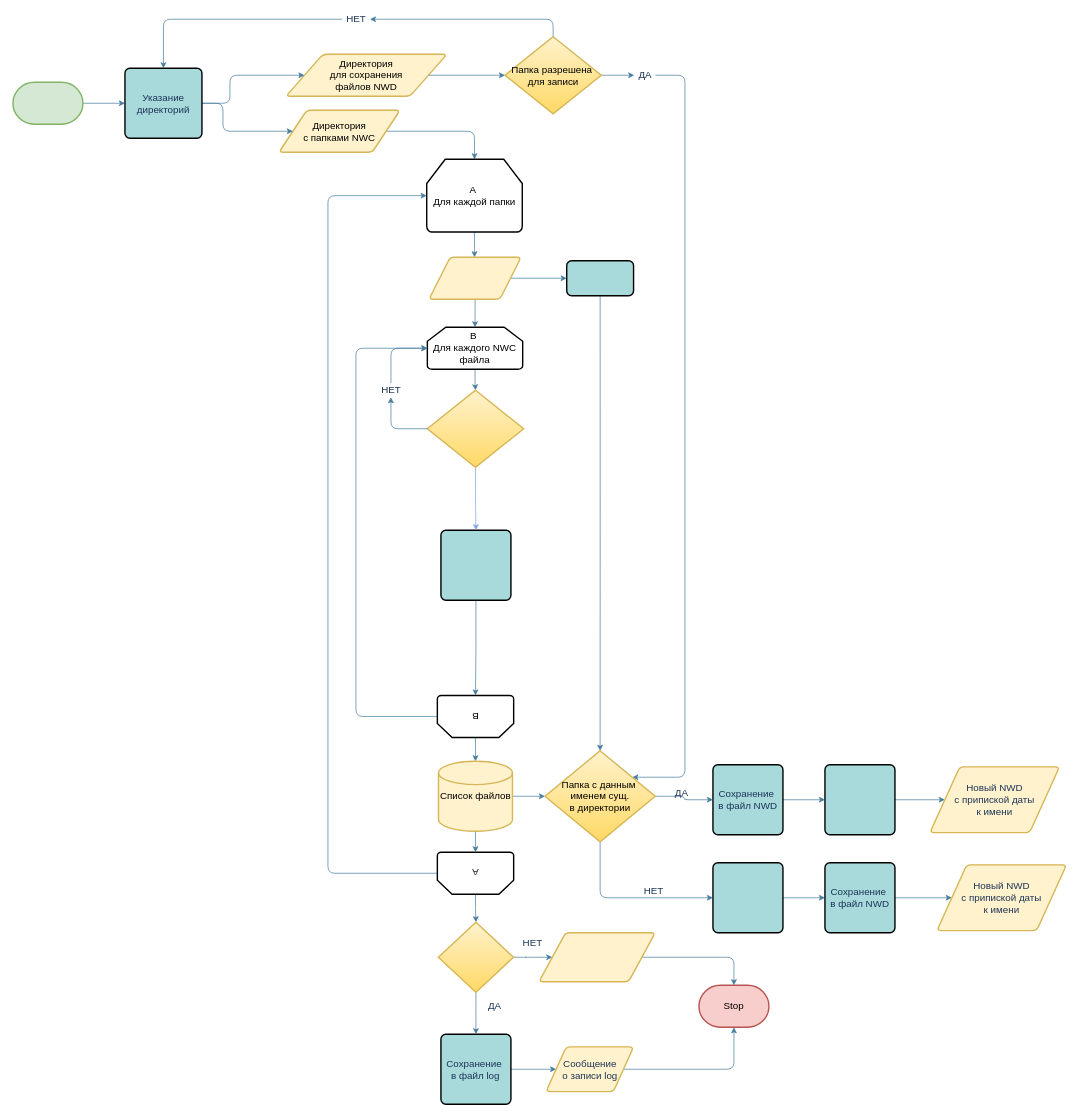
Image size: 1079x1117. Some labels were removed from this diagram. Here are the shapes that lost their labels. From the top down, the box of each, then its label:
(12, 81, 83, 125): Start
(428, 256, 521, 300): Папка
(566, 260, 634, 296): Имя папки
(426, 389, 524, 468): Размер файла больше 10кБ
(440, 529, 511, 601): Запись директории файла в список
(824, 764, 895, 835): Удаление старых NWD в архив
(712, 862, 783, 933): Создание новой папки с данным именем
(437, 921, 514, 993): Были ошибки
(538, 932, 656, 982): Сообщение об успешном завершении
